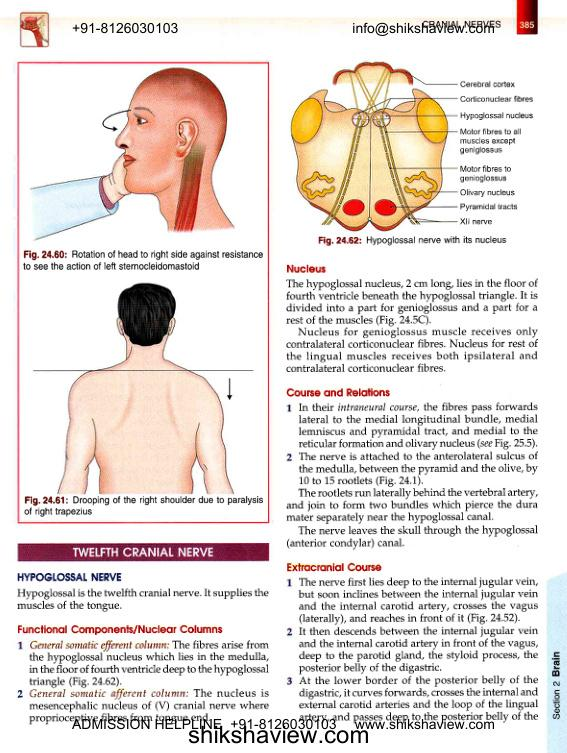caption: (22, 249, 264, 272), (23, 495, 264, 518), (317, 235, 507, 247)
image: (24, 278, 262, 495), (284, 54, 538, 233), (23, 64, 264, 247)
list: (285, 577, 540, 724), (285, 401, 540, 487), (16, 640, 271, 724)
section-heading: (71, 546, 215, 558)
sub-section-heading: (16, 623, 224, 636), (16, 572, 123, 583), (285, 387, 392, 398), (286, 562, 383, 573), (286, 263, 327, 275)
text: (284, 277, 540, 374), (285, 487, 540, 551), (16, 587, 270, 613)
